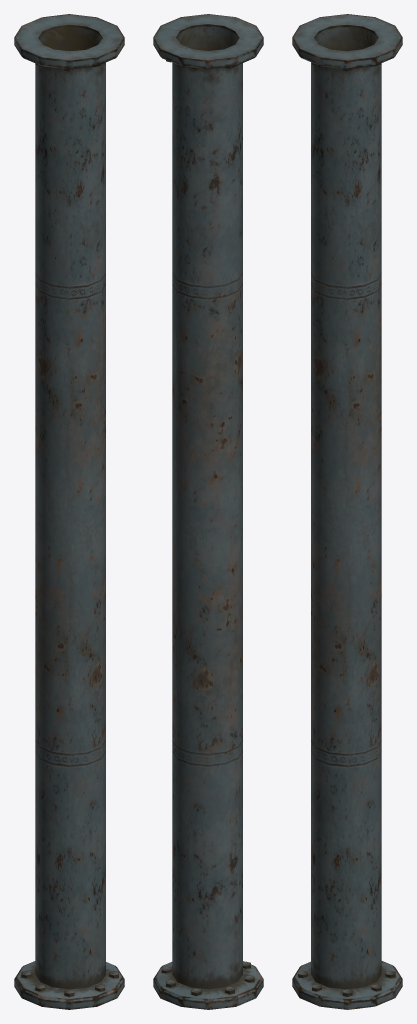
File: pipe_pipe02.fbx
3 views of the same model, side by side, from view 1: azimuth 90°, elevation 25°; view 2: azimuth 210°, elevation 25°; view 3: azimuth 270°, elevation 25° (orthographic).
Visible parts, largest first — view 1: modular_industrial_pipes_01_group01__modular_industrial_pipe; view 2: modular_industrial_pipes_01_group01__modular_industrial_pipe; view 3: modular_industrial_pipes_01_group01__modular_industrial_pipe.
Boxes of the visible parts, x1,y1,x2,y2 form: modular_industrial_pipes_01_group01__modular_industrial_pipe: (14,14,124,1009); modular_industrial_pipes_01_group01__modular_industrial_pipe: (153,14,263,1009); modular_industrial_pipes_01_group01__modular_industrial_pipe: (292,14,402,1009).
Size of the model in its own units: 0.2071 by 1.95 by 0.2063.
